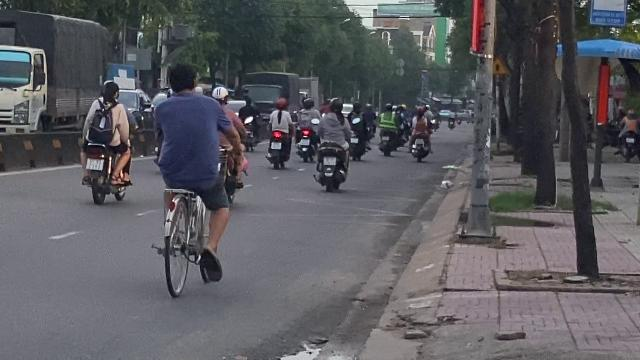licenseplate: (86, 158, 102, 170)
motorcyclist: (77, 79, 135, 205)
nohelmet: (99, 80, 119, 102)
